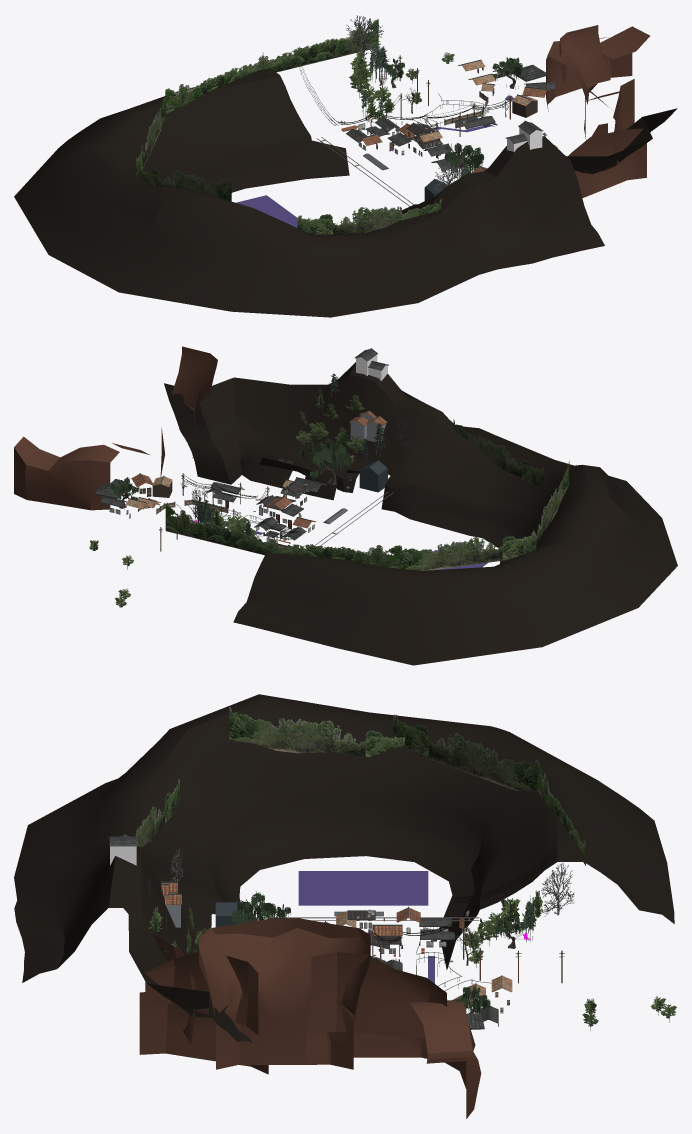
Rendered from staticMesh.gltf.
3 renders of one model, top to bottom at view 1: azimuth 30°, elevation 25°; view 2: azimuth 150°, elevation 25°; view 3: azimuth 270°, elevation 25°, orthographic. The views are drawn at different scales.
Visible parts, largest first — view 1: merged; view 2: merged; view 3: merged.
Boxes of the visible parts, left/top/right/bottom form: merged: left=14, top=15, right=677, bottom=317; merged: left=14, top=346, right=677, bottom=665; merged: left=14, top=694, right=676, bottom=1118.
Size of the model in its own units: 255 by 51.33 by 186.
4 materials, 3 textured.
